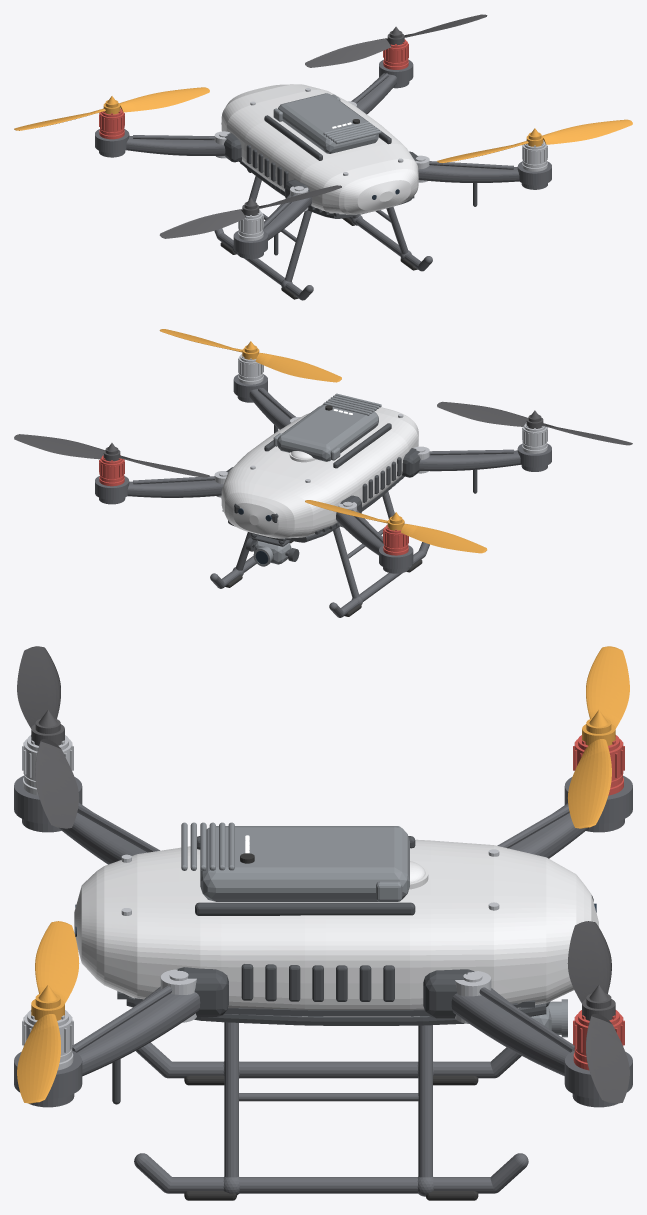
File: Quadcopter.glb
The picture shows the model from 3 angles, top to bottom: view 1: azimuth 30°, elevation 25°; view 2: azimuth 150°, elevation 25°; view 3: azimuth 270°, elevation 25°; orthographic projection. The views are drawn at different scales.
Visible parts, largest first — view 1: Body_Shell, Battery, Landing_Gear, Arm_RR, Body_Trim, Arm_FL, Propeller_FL, Propeller_RR, Propeller_RL, Propeller_FR, Arm_RL, Arm_FR (+4 smaller); view 2: Body_Shell, Battery, Body_Trim, Arm_RL, Landing_Gear, Arm_FR, Propeller_FR, Propeller_RL, Propeller_FL, Propeller_RR, Arm_FL, Arm_RR (+6 smaller); view 3: Body_Shell, Landing_Gear, Battery, Body_Trim, Propeller_FR, Propeller_RR, Propeller_FL, Propeller_RL, Arm_RR, Arm_FR, Arm_RL, Arm_FL (+8 smaller).
Part boxes in pixels (x1,y1,x2,y2): Body_Shell: [221, 84, 418, 214]; Battery: [273, 93, 381, 153]; Landing_Gear: [214, 176, 432, 300]; Arm_RR: [418, 161, 551, 189]; Body_Trim: [224, 101, 418, 218]; Arm_FL: [95, 129, 225, 157]; Propeller_FL: [14, 87, 209, 130]; Propeller_RR: [437, 119, 632, 163]; Propeller_RL: [159, 185, 341, 238]; Propeller_FR: [305, 14, 487, 67]; Arm_RL: [233, 194, 311, 259]; Arm_FR: [351, 59, 413, 114]; Body_Shell: [221, 407, 418, 538]; Battery: [273, 393, 381, 461]; Body_Trim: [222, 406, 420, 542]; Arm_RL: [419, 443, 551, 471]; Landing_Gear: [210, 491, 429, 617]; Arm_FR: [95, 476, 223, 504]; Propeller_FR: [14, 434, 209, 477]; Propeller_RL: [437, 401, 632, 445]; Propeller_FL: [305, 500, 487, 553]; Propeller_RR: [159, 329, 341, 382]; Arm_FL: [336, 509, 413, 573]; Arm_RR: [233, 374, 295, 429]; Body_Shell: [74, 839, 598, 1016]; Landing_Gear: [134, 1022, 528, 1196]; Battery: [181, 822, 409, 901]; Body_Trim: [117, 836, 593, 1025]; Propeller_FR: [567, 921, 629, 1103]; Propeller_RR: [17, 921, 79, 1103]; Propeller_FL: [568, 646, 629, 828]; Propeller_RL: [17, 646, 78, 828]; Arm_RR: [14, 986, 200, 1107]; Arm_FR: [451, 987, 632, 1107]; Arm_RL: [14, 775, 159, 864]; Arm_FL: [497, 775, 632, 858].
Bounding box in the file's own units: 2.06 × 0.6238 × 1.18.
